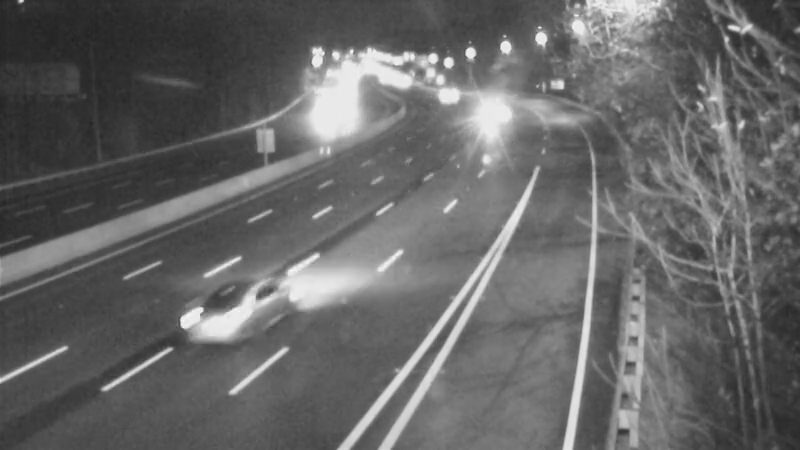vehicle: (162, 261, 272, 371), (422, 70, 472, 120), (465, 82, 515, 132)
